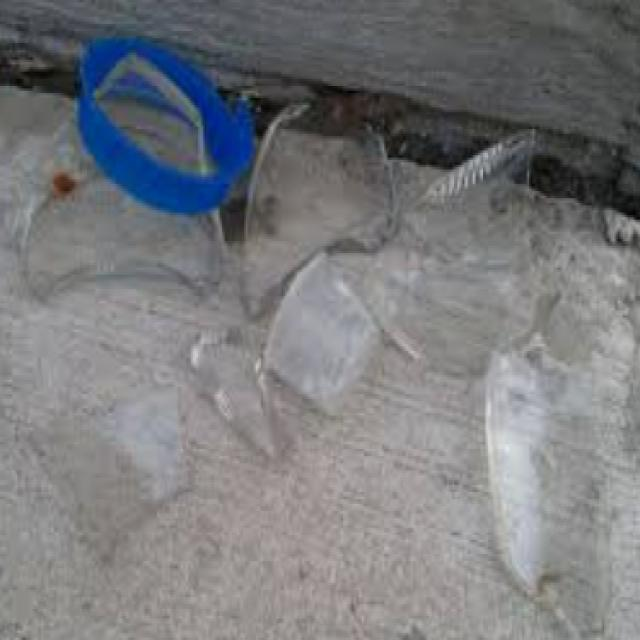PecahanKaca: (74, 31, 620, 614)
